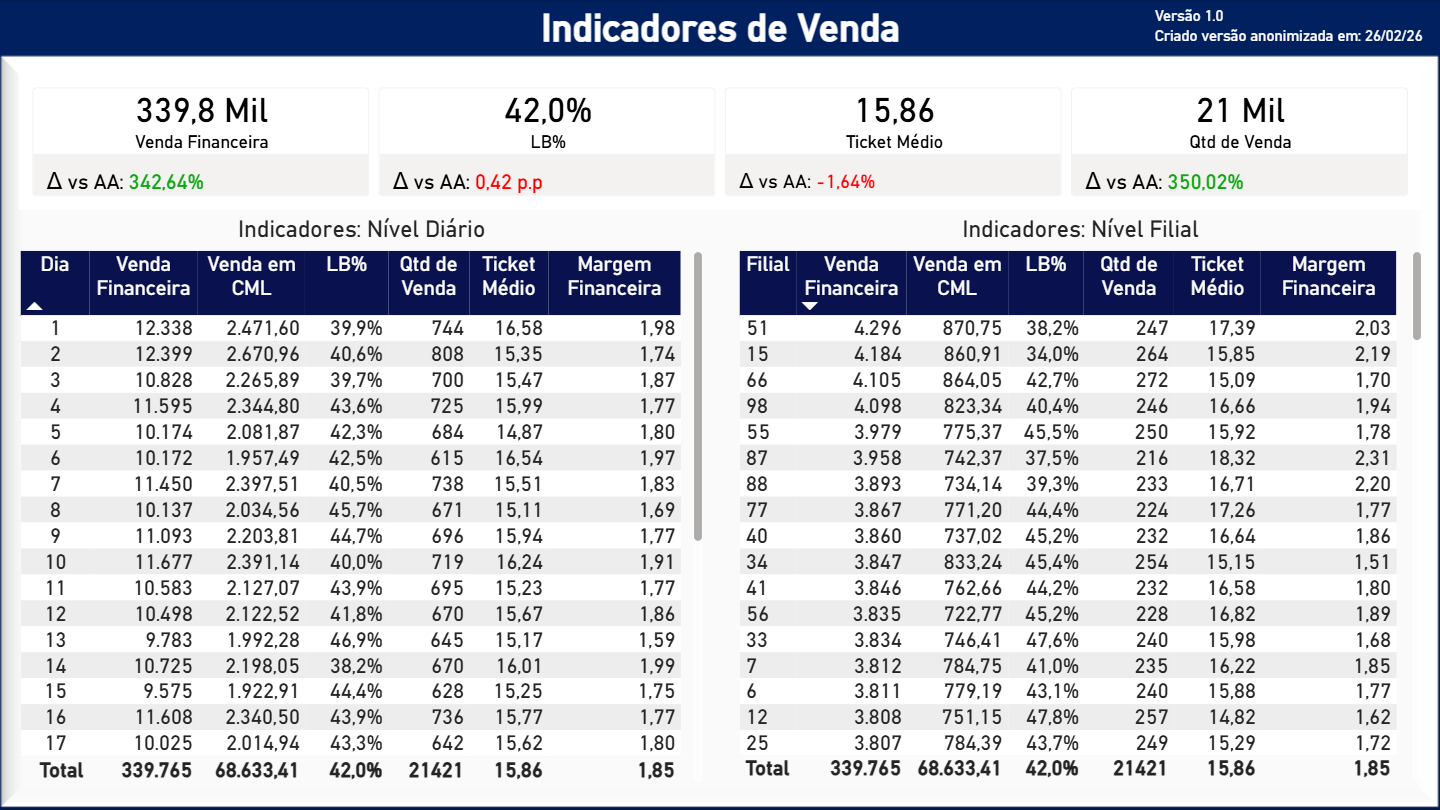

This screenshot's page, from the dashboard's own definition file:
{"tool":"powerbi","page":{"name":"Indicadores de Venda","canvas":[1280,720],"ordinal":0},"visuals":[{"type":"cardVisual","fields":{"Data":["_Medidas.Venda Financeira","_Medidas.LB%","_Medidas.Ticket Médio","_Medidas.Qtd de Venda"]},"box":[12.6,60,1254.7,131.2],"z":0},{"type":"tableEx","title":"Indicadores: Nível Diário","fields":{"Values":["dCalendario.Dia","_Medidas.Venda Financeira","_Medidas.Venda em CML","_Medidas.LB%","_Medidas.Qtd de Venda","_Medidas.Ticket Médio","_Medidas.Margem Financeira"]},"box":[13,191.5,616.3,506.9],"z":1000},{"type":"textbox","box":[0,0,1280.2,53],"z":2000},{"type":"tableEx","title":"Indicadores: Nível Filial","fields":{"Values":["dFiliais.Filial","_Medidas.Venda Financeira","_Medidas.Venda em CML","_Medidas.LB%","_Medidas.Qtd de Venda","_Medidas.Ticket Médio","_Medidas.Margem Financeira"]},"box":[651.2,191.7,616.1,506.3],"z":3000},{"type":"textbox","box":[1019.4,0,260.6,56.2],"z":3001}]}

Visuals, with their boxes in screenshot pixels (x1, y1, x2, y2), scaled from the page's 1280x720 canvas onto the 1440x810 screenshot:
cardVisual - _Medidas.Venda Financeira x _Medidas.LB%: detection(14, 68, 1426, 215)
"Indicadores: Nível Diário" tableEx: detection(15, 215, 708, 786)
textbox: detection(0, 0, 1439, 60)
"Indicadores: Nível Filial" tableEx: detection(733, 216, 1426, 785)
textbox: detection(1147, 0, 1439, 63)
